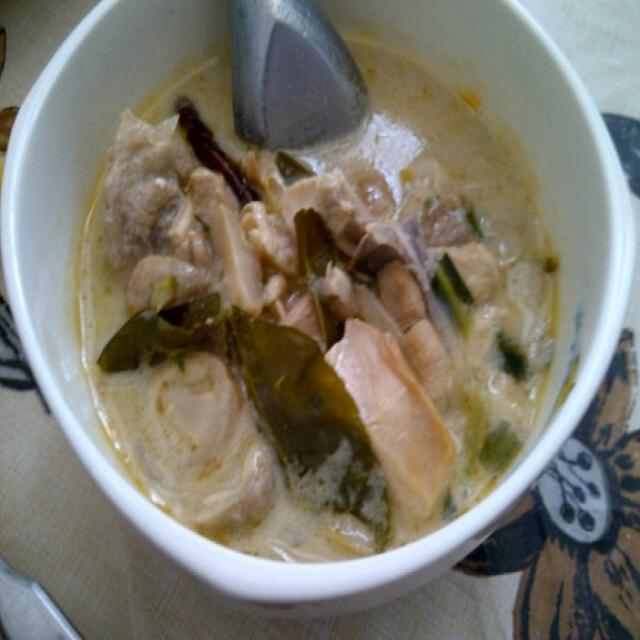汤锅炖物: (35, 8, 626, 602)
